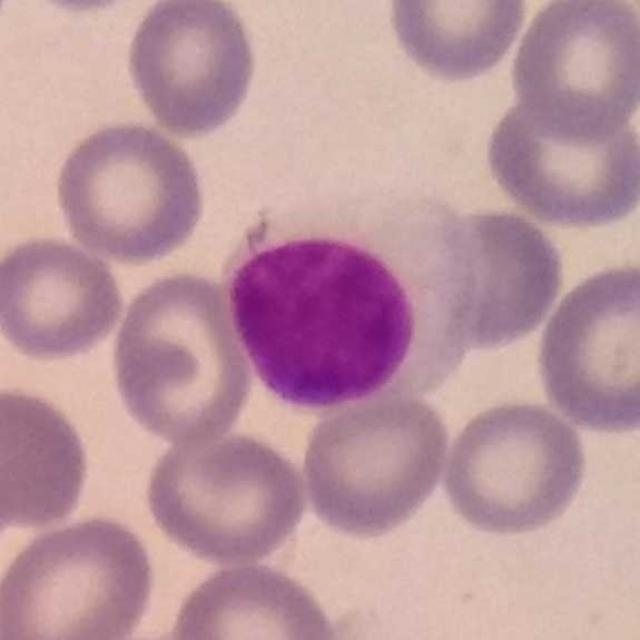Lymphocyte: (217, 172, 488, 428)
RBC: (106, 266, 256, 451), (140, 426, 313, 568), (297, 388, 454, 541), (50, 117, 210, 267), (423, 202, 569, 355), (481, 92, 640, 232), (438, 395, 592, 539), (0, 510, 159, 640), (531, 257, 640, 439), (121, 0, 262, 140), (506, 0, 638, 142), (0, 230, 128, 364), (0, 380, 95, 538), (167, 556, 343, 640), (382, 0, 532, 86), (16, 0, 160, 17)
